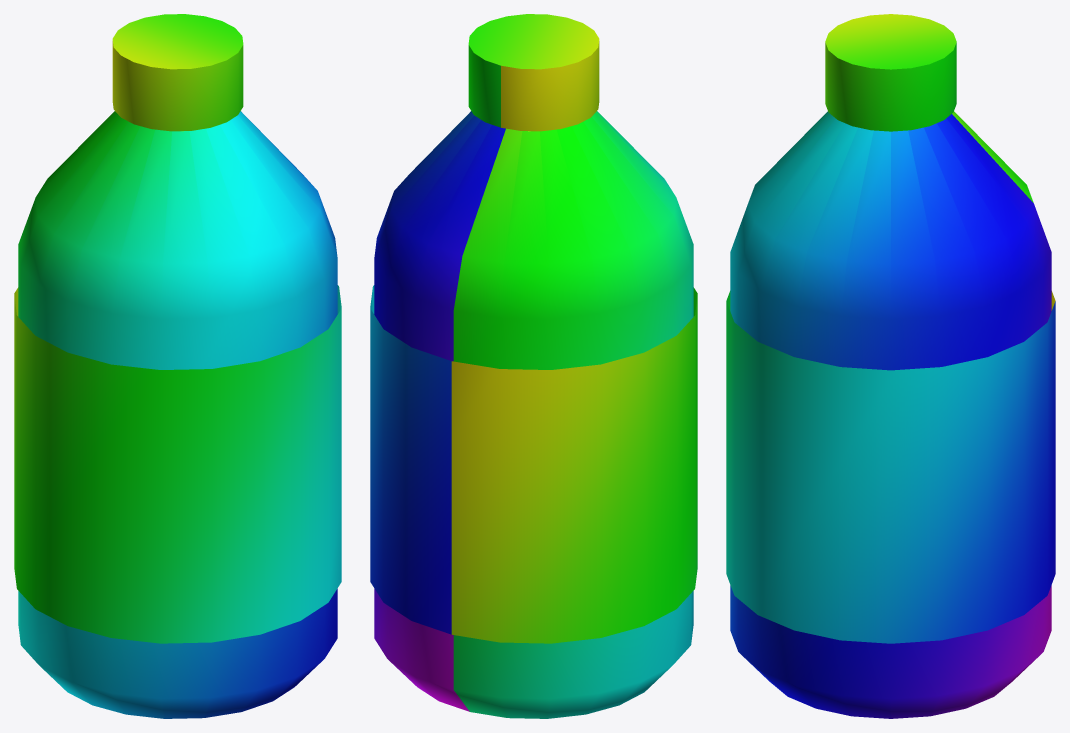
3 renders of one model, left to right at view 1: azimuth 30°, elevation 25°; view 2: azimuth 150°, elevation 25°; view 3: azimuth 270°, elevation 25°, orthographic.
Parts seen in each view (by area): view 1: pCylinder1, pCylinder2; view 2: pCylinder1, pCylinder2; view 3: pCylinder1, pCylinder2.
Boxes of the visible parts, x1,y1,x2,y2 form: pCylinder1: [18, 14, 337, 718]; pCylinder2: [14, 285, 341, 643]; pCylinder1: [374, 14, 693, 718]; pCylinder2: [370, 285, 697, 643]; pCylinder1: [730, 14, 1051, 718]; pCylinder2: [726, 291, 1055, 643].
Bounding box in the file's own units: 399 × 834 × 399.
Materials: 1 (1 with a texture image).
